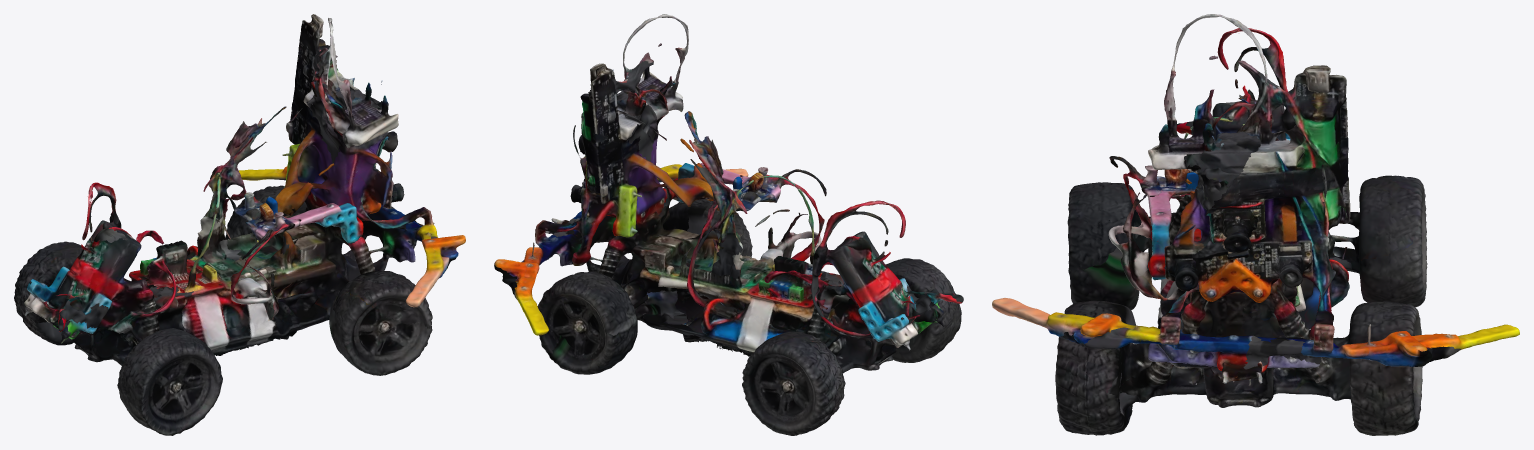
The model's file is UTCar.glb.
The picture shows the model from 3 angles, left to right: view 1: azimuth 30°, elevation 25°; view 2: azimuth 150°, elevation 25°; view 3: azimuth 270°, elevation 25°; orthographic projection. The views are drawn at different scales.
Parts seen in each view (by area): view 1: 3DModel; view 2: 3DModel; view 3: 3DModel.
Part boxes in pixels (<box>): 3DModel: <box>14,14,465,435</box>; 3DModel: <box>494,14,963,435</box>; 3DModel: <box>992,14,1519,435</box>.
Size of the model in its own units: 2.9 by 2.28 by 2.56.
Materials: 1 (1 with a texture image).
